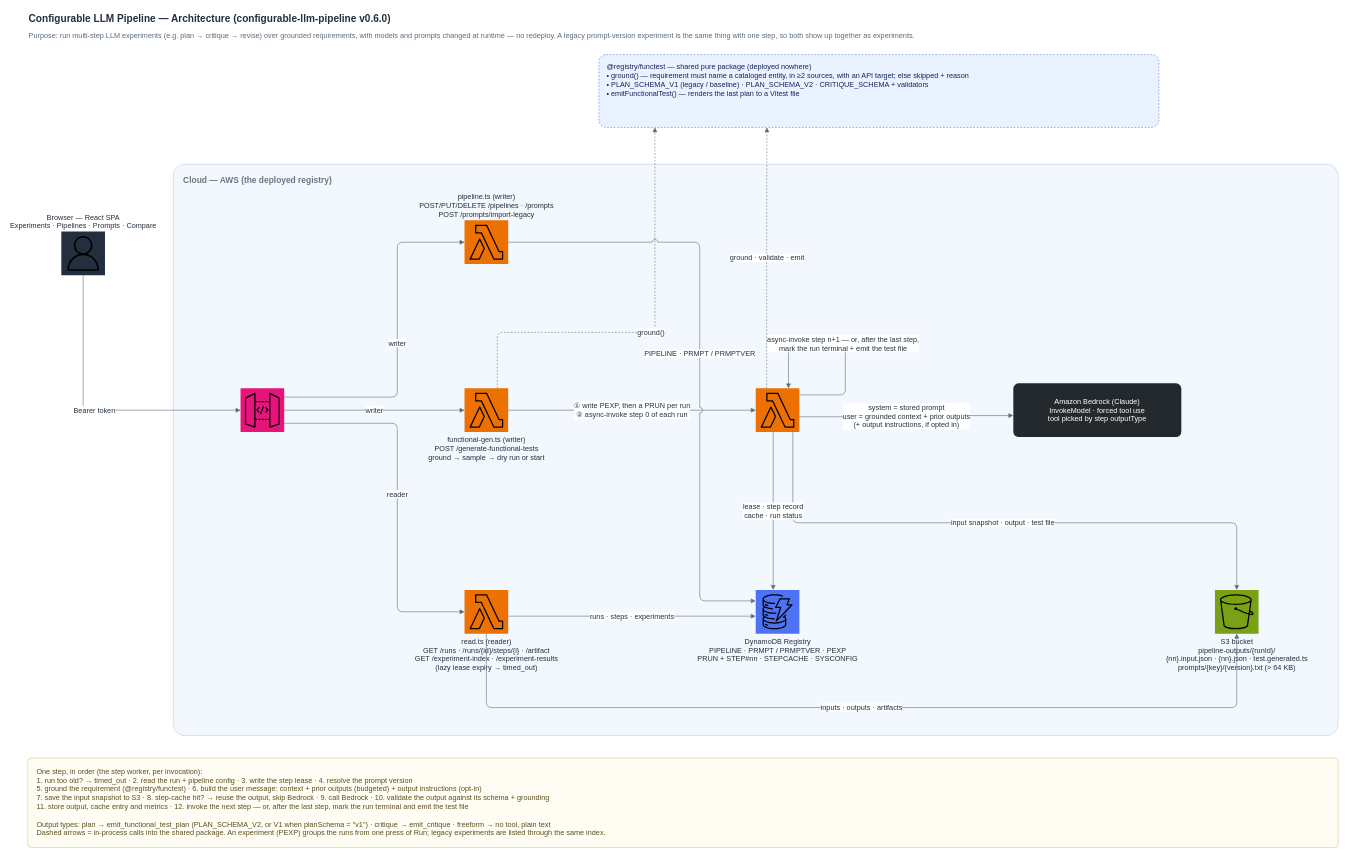
Image size: 1348x857. Some labels were removed from this diagram. Here are the shapes that lost their labels. From the top down, the centre of each, then its label:
At [262,410]: "API Gateway HTTP API + Lambda authorizer (reader / writer)".
At [777,410]: "Step worker Lambda one invocation per step · 900 s timeout".
